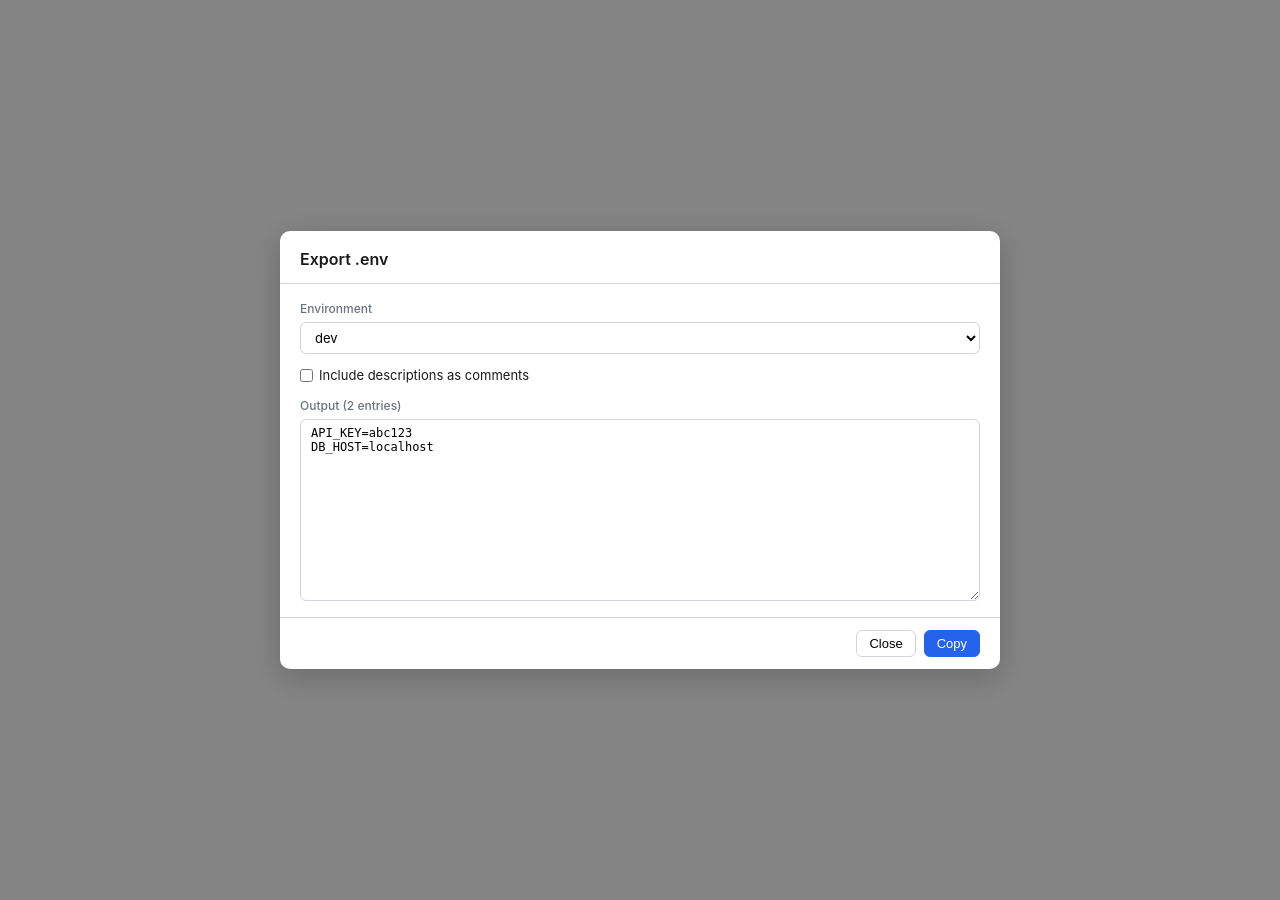
ExportEnvDialog › shows Copied feedback after copy
Click the button "Copy".
click(952, 644)  # box [924,630,980,657]
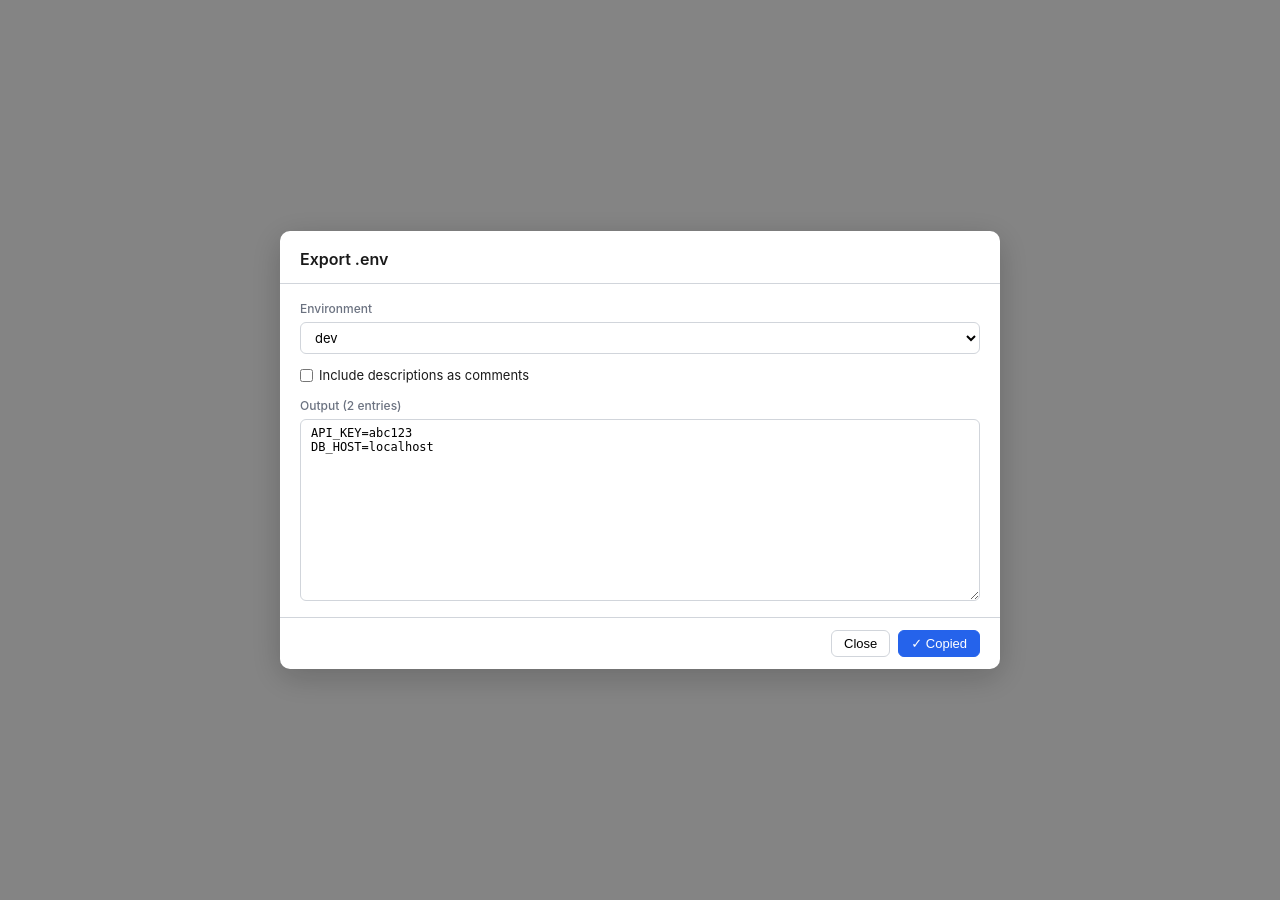
Expected: the button "✓ Copied" is shown, [898,630,980,657]
